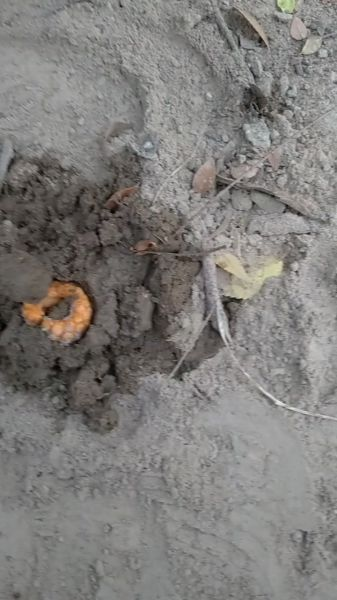eggs: (17, 279, 98, 350)
